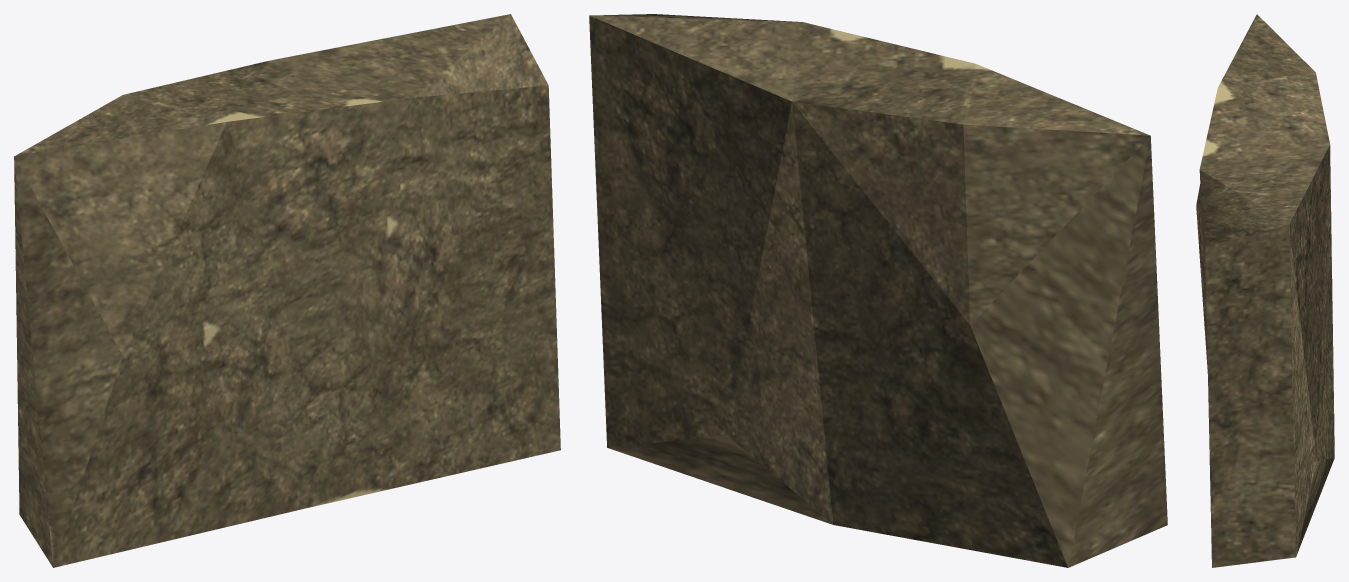
Rendered from CaveWalls1_C_COL.obj.
The picture shows the model from 3 angles, left to right: view 1: azimuth 30°, elevation 25°; view 2: azimuth 150°, elevation 25°; view 3: azimuth 270°, elevation 25°; orthographic projection. The views are drawn at different scales.
Visible parts, largest first — view 1: CaveWalls1_C.005; view 2: CaveWalls1_C.005; view 3: CaveWalls1_C.005.
Part boxes in pixels (x1,y1,x2,y2): CaveWalls1_C.005: [14, 14, 560, 567]; CaveWalls1_C.005: [589, 14, 1167, 567]; CaveWalls1_C.005: [1196, 14, 1334, 567].
Bounding box in the file's own units: 43.16 × 32.22 × 11.78.
1 material, 1 textured.
